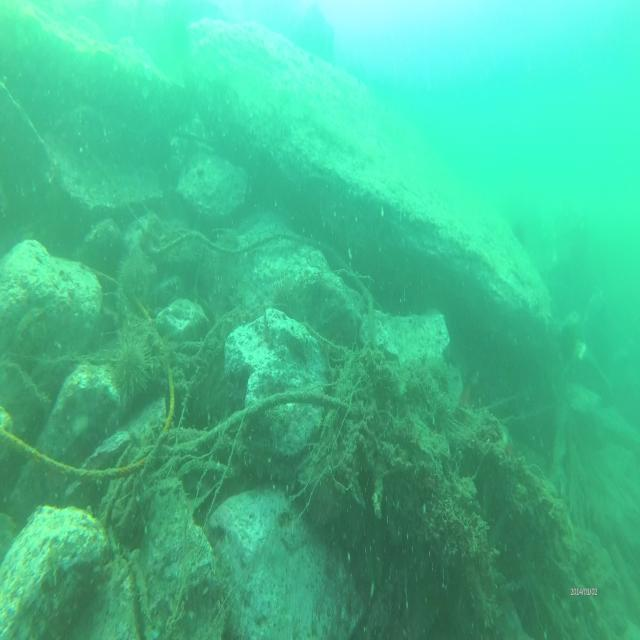echinus: (104, 325, 158, 404), (110, 248, 153, 322), (272, 270, 311, 326)
